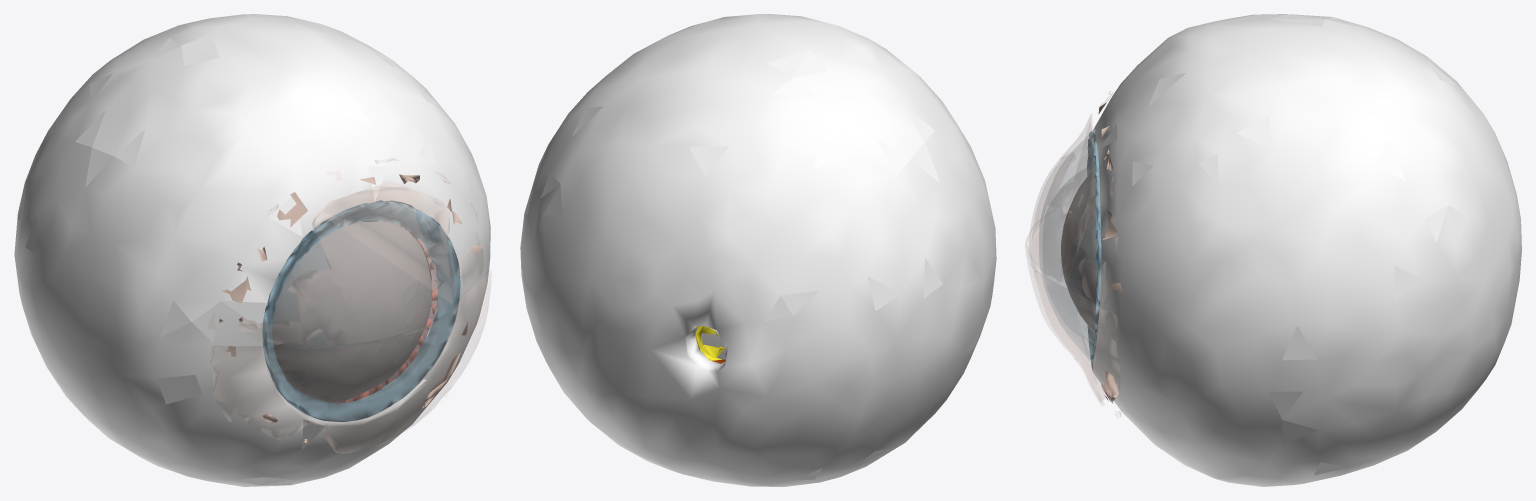
Rendered from 3d-vh-m-eye-l_lod_20.glb.
3 views of the same model, side by side, from view 1: azimuth 30°, elevation 25°; view 2: azimuth 150°, elevation 25°; view 3: azimuth 270°, elevation 25° (orthographic).
Parts seen in each view (by area): view 1: VH_M_sclera_L, VH_M_cornea_L, VH_M_palpebral_conjunctiva_of_lower_eyelid_L, VH_M_palpebral_conjunctiva_of_upper_eyelid_L, VH_M_aqueous_humor_L, VH_M_corneo_scleral_junction_L, VH_M_bulbar_conjunctiva_L, VH_M_ciliary_muscle_L; view 2: VH_M_sclera_L; view 3: VH_M_sclera_L, VH_M_cornea_L, VH_M_palpebral_conjunctiva_of_upper_eyelid_L, VH_M_palpebral_conjunctiva_of_lower_eyelid_L, VH_M_aqueous_humor_L, VH_M_corneo_scleral_junction_L, VH_M_bulbar_conjunctiva_L.
Boxes of the visible parts, box(x1,y1,x2,y2) form: VH_M_sclera_L: box(14, 14, 490, 486); VH_M_cornea_L: box(263, 202, 460, 421); VH_M_palpebral_conjunctiva_of_lower_eyelid_L: box(209, 269, 490, 453); VH_M_palpebral_conjunctiva_of_upper_eyelid_L: box(209, 158, 483, 345); VH_M_aqueous_humor_L: box(272, 220, 431, 402); VH_M_corneo_scleral_junction_L: box(262, 200, 460, 421); VH_M_bulbar_conjunctiva_L: box(219, 174, 482, 442); VH_M_ciliary_muscle_L: box(332, 240, 437, 403); VH_M_sclera_L: box(520, 14, 996, 486); VH_M_sclera_L: box(1091, 14, 1521, 486); VH_M_cornea_L: box(1039, 133, 1099, 363); VH_M_palpebral_conjunctiva_of_upper_eyelid_L: box(1028, 91, 1117, 303); VH_M_palpebral_conjunctiva_of_lower_eyelid_L: box(1025, 228, 1121, 417); VH_M_aqueous_humor_L: box(1061, 169, 1097, 331); VH_M_corneo_scleral_junction_L: box(1087, 130, 1101, 363); VH_M_bulbar_conjunctiva_L: box(1098, 93, 1123, 403).
Size of the model in its own units: 0.0244 by 0.0244 by 0.0257.
